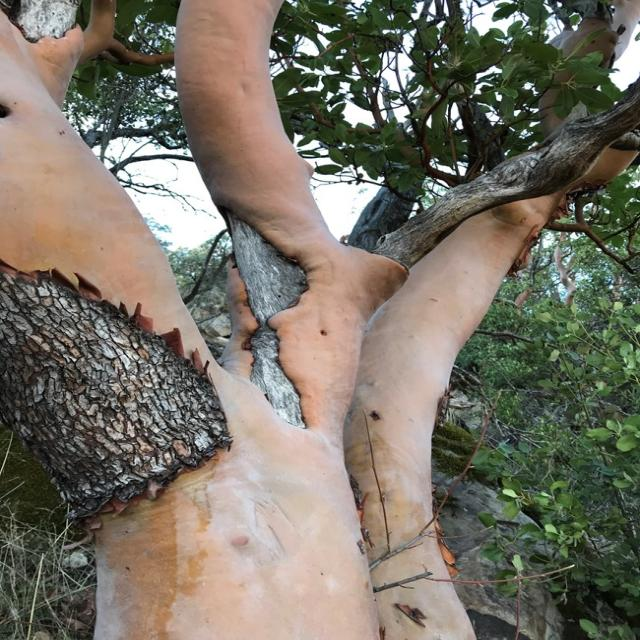Arbutus menziesii: (1, 0, 640, 640)
